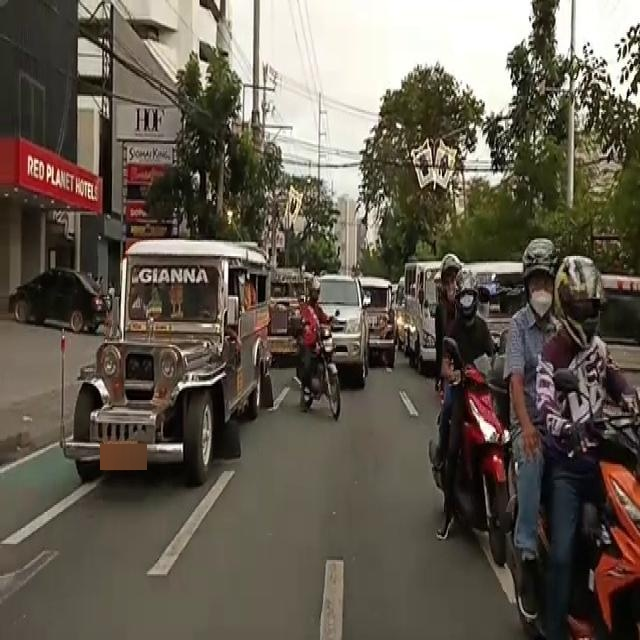car: (310, 279, 370, 385), (21, 269, 103, 328), (406, 269, 434, 371)
jeepney: (93, 256, 268, 479), (360, 280, 398, 367), (268, 270, 302, 359)
motorcycle: (505, 298, 631, 640), (426, 276, 502, 554), (298, 303, 343, 417)
